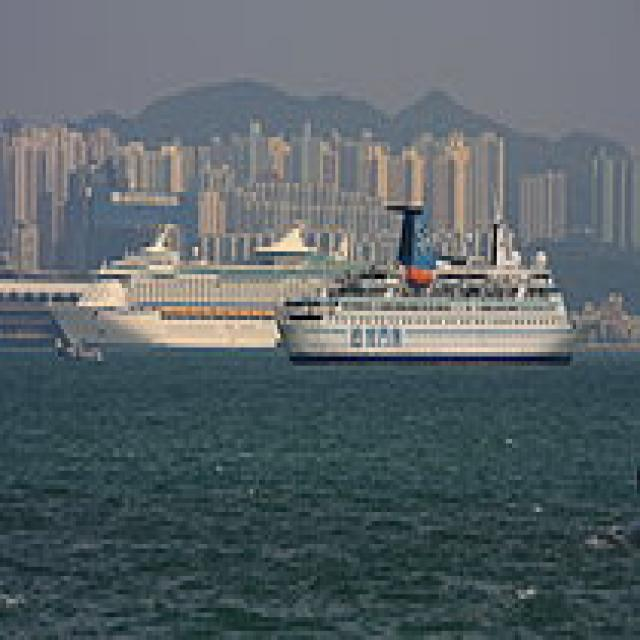Ship: (276, 188, 596, 385), (35, 198, 343, 358)
